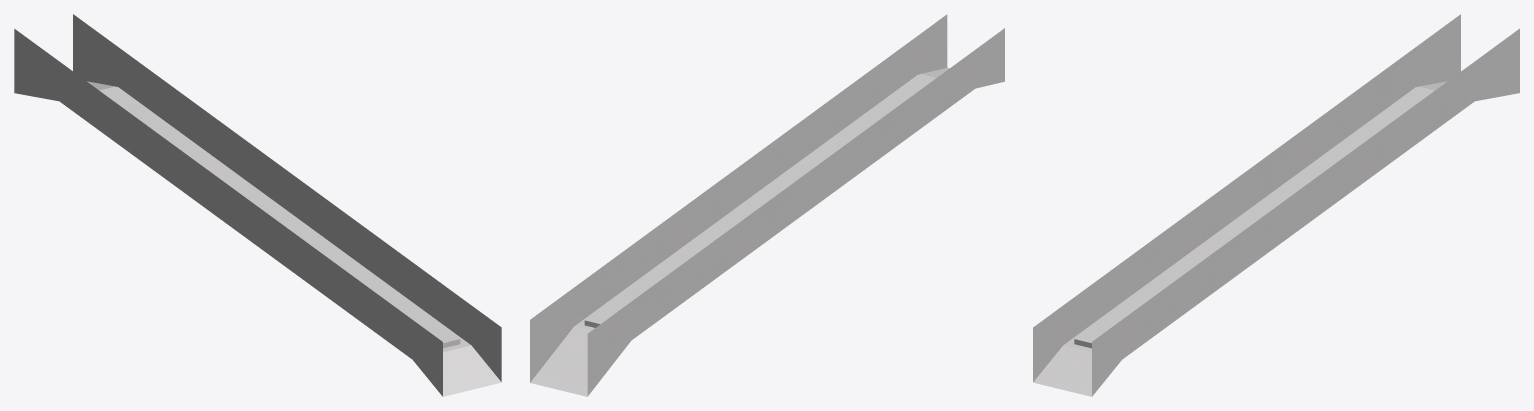
Rendered from SM_Ceilingblock_4.fbx.
3 views of the same model, side by side, from view 1: azimuth 30°, elevation 25°; view 2: azimuth 150°, elevation 25°; view 3: azimuth 330°, elevation 25° (orthographic). The views are drawn at different scales.
Visible parts, largest first — view 1: SM_Ceilingblock_4; view 2: SM_Ceilingblock_4; view 3: SM_Ceilingblock_4.
Boxes of the visible parts, x1=… form: SM_Ceilingblock_4: x1=14, y1=14, x2=501, y2=396; SM_Ceilingblock_4: x1=530, y1=14, x2=1004, y2=396; SM_Ceilingblock_4: x1=1033, y1=14, x2=1519, y2=396.
Bounding box in the file's own units: 65.34 × 819 × 68.27.
Materials: 1 (1 with a texture image).
